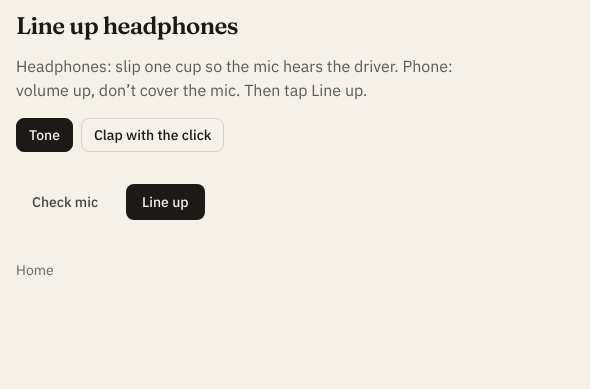
Scenario: CalibrationPage › says the mic did not pick up the tone when measurement fails
Click the button "Line up". click: [165, 202]
box: top-left (126, 184), bottom-right (205, 220)
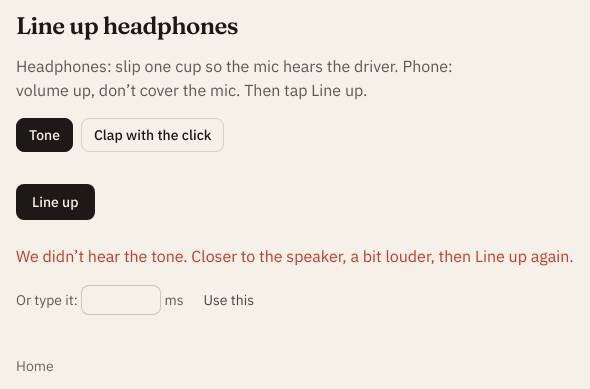
Expected: the message shows "didn.t hear the tone", top-left (16, 246), bottom-right (574, 266)
